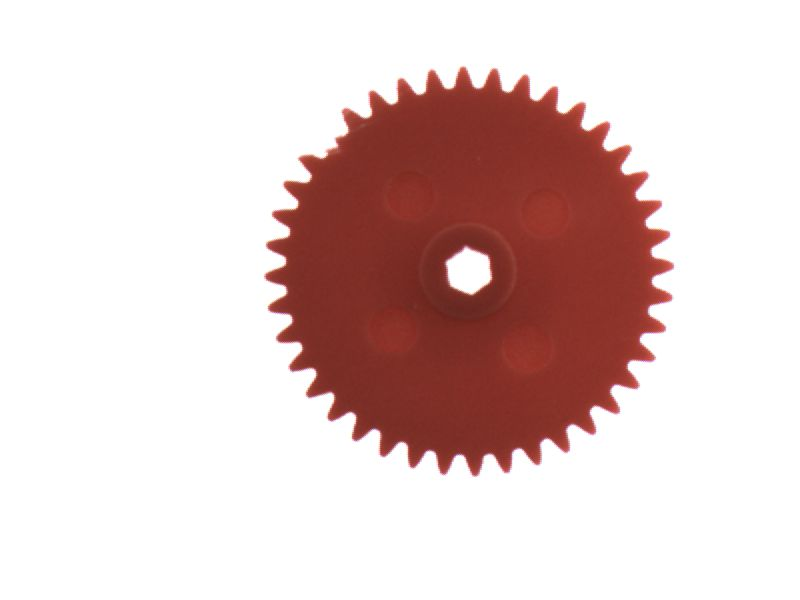defect_lack: (301, 109, 359, 174)
